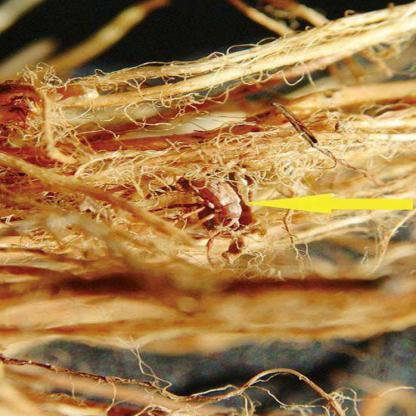rice-bug: (173, 172, 247, 243)
